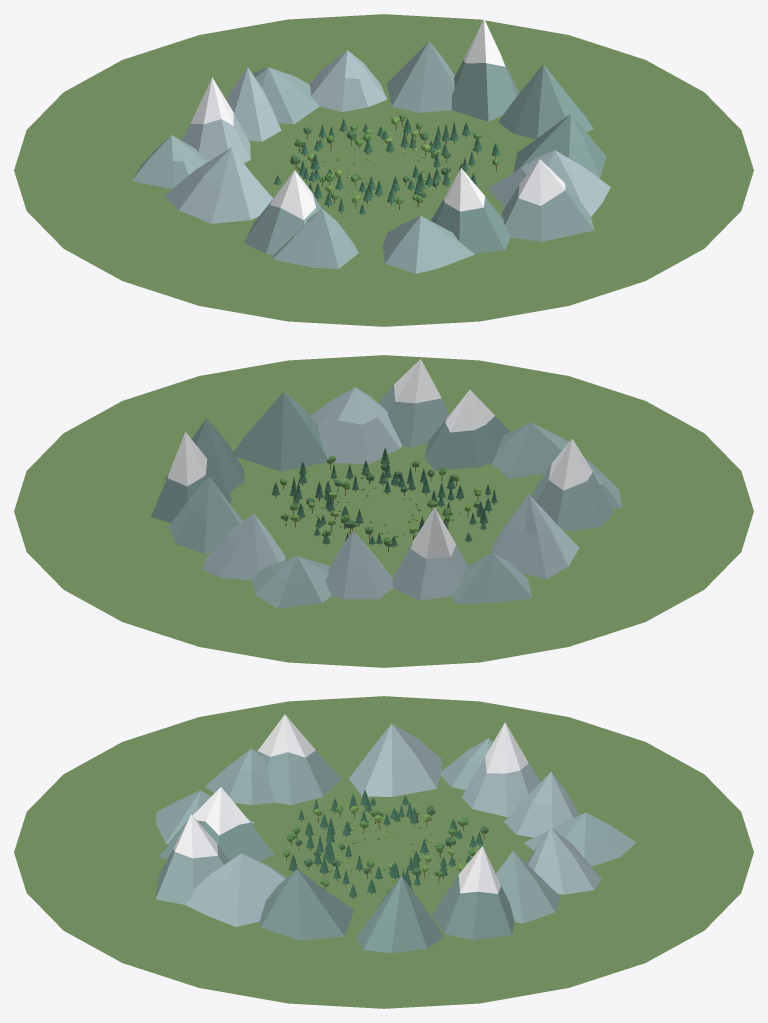
The model's file is study_scenery.glb.
The picture shows the model from 3 angles, top to bottom: view 1: azimuth 30°, elevation 25°; view 2: azimuth 150°, elevation 25°; view 3: azimuth 270°, elevation 25°; orthographic projection.
Visible parts, largest first — view 1: room_outdoors_scenery; view 2: room_outdoors_scenery; view 3: room_outdoors_scenery.
Boxes of the visible parts, x1,y1,x2,y2 form: room_outdoors_scenery: [14, 14, 753, 326]; room_outdoors_scenery: [14, 355, 753, 667]; room_outdoors_scenery: [14, 696, 753, 1008].
Size of the model in its own units: 280 by 33.71 by 280.
1 material, 1 textured.
